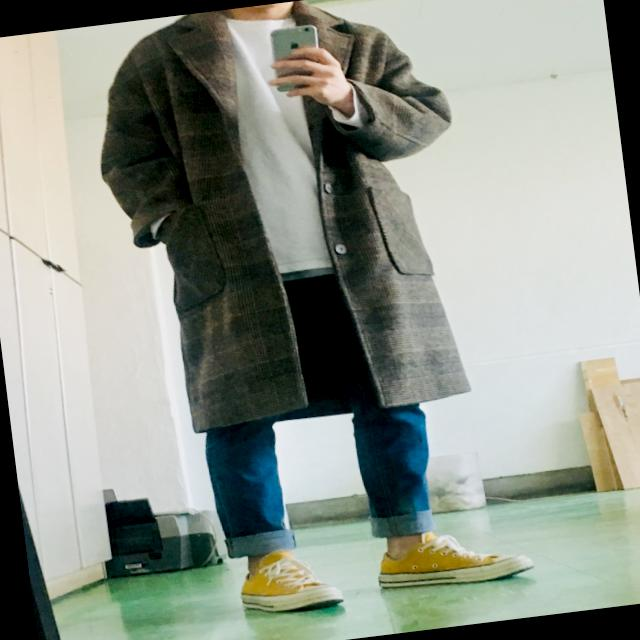coat: (79, 0, 489, 445)
denimpants: (180, 256, 444, 560)
